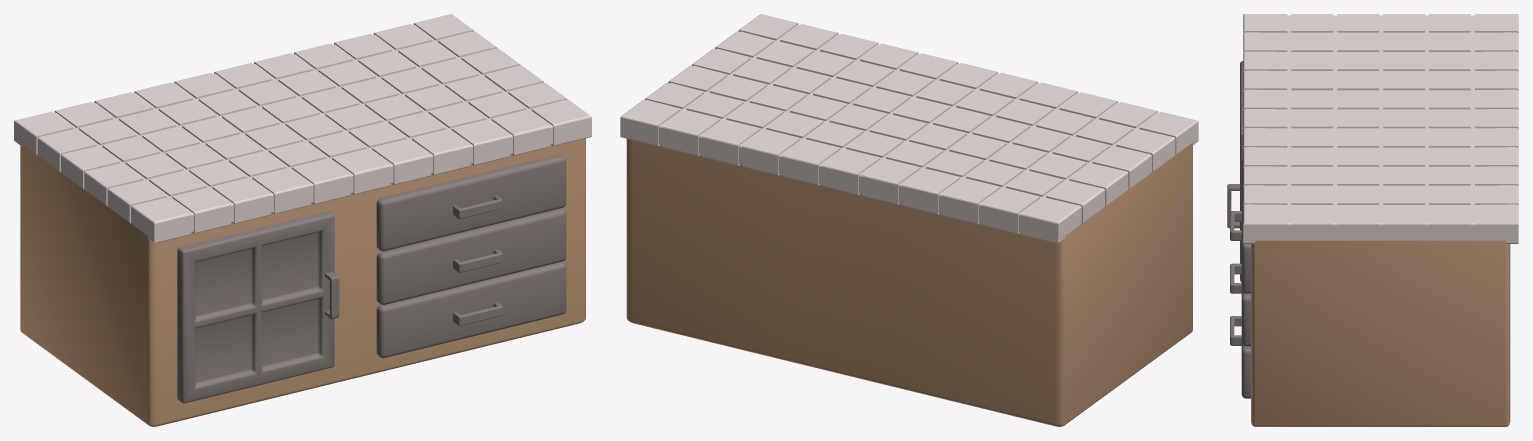
The model's file is 2li_counterr.fbx.
The picture shows the model from 3 angles, left to right: view 1: azimuth 30°, elevation 25°; view 2: azimuth 150°, elevation 25°; view 3: azimuth 270°, elevation 25°; orthographic projection.
Visible parts, largest first — view 1: Cube.103, Cube.102, Cube.110, Cube.104, Cube.106, Cube.108, Cube.107, Cube.109, Cube.105; view 2: Cube.102, Cube.103; view 3: Cube.103, Cube.102, Cube.104, Cube.110, Cube.106, Cube.108, Cube.107, Cube.105, Cube.109, Cube.111.
Part boxes in pixels (x1,y1,x2,y2): Cube.103: [14, 14, 591, 243]; Cube.102: [20, 138, 585, 426]; Cube.110: [177, 211, 334, 403]; Cube.104: [376, 154, 566, 251]; Cube.106: [376, 208, 566, 304]; Cube.108: [376, 261, 566, 358]; Cube.107: [453, 249, 502, 272]; Cube.109: [453, 302, 502, 325]; Cube.105: [453, 195, 502, 218]; Cube.102: [626, 139, 1192, 426]; Cube.103: [620, 14, 1198, 243]; Cube.103: [1243, 14, 1518, 243]; Cube.102: [1251, 240, 1510, 426]; Cube.104: [1241, 158, 1250, 293]; Cube.110: [1240, 61, 1243, 282]; Cube.106: [1241, 290, 1250, 346]; Cube.108: [1241, 342, 1250, 398]; Cube.107: [1230, 263, 1241, 293]; Cube.105: [1230, 211, 1241, 240]; Cube.109: [1230, 316, 1241, 345]; Cube.111: [1227, 184, 1239, 228].
Bounding box in the file's own units: 669 × 307 × 393.
